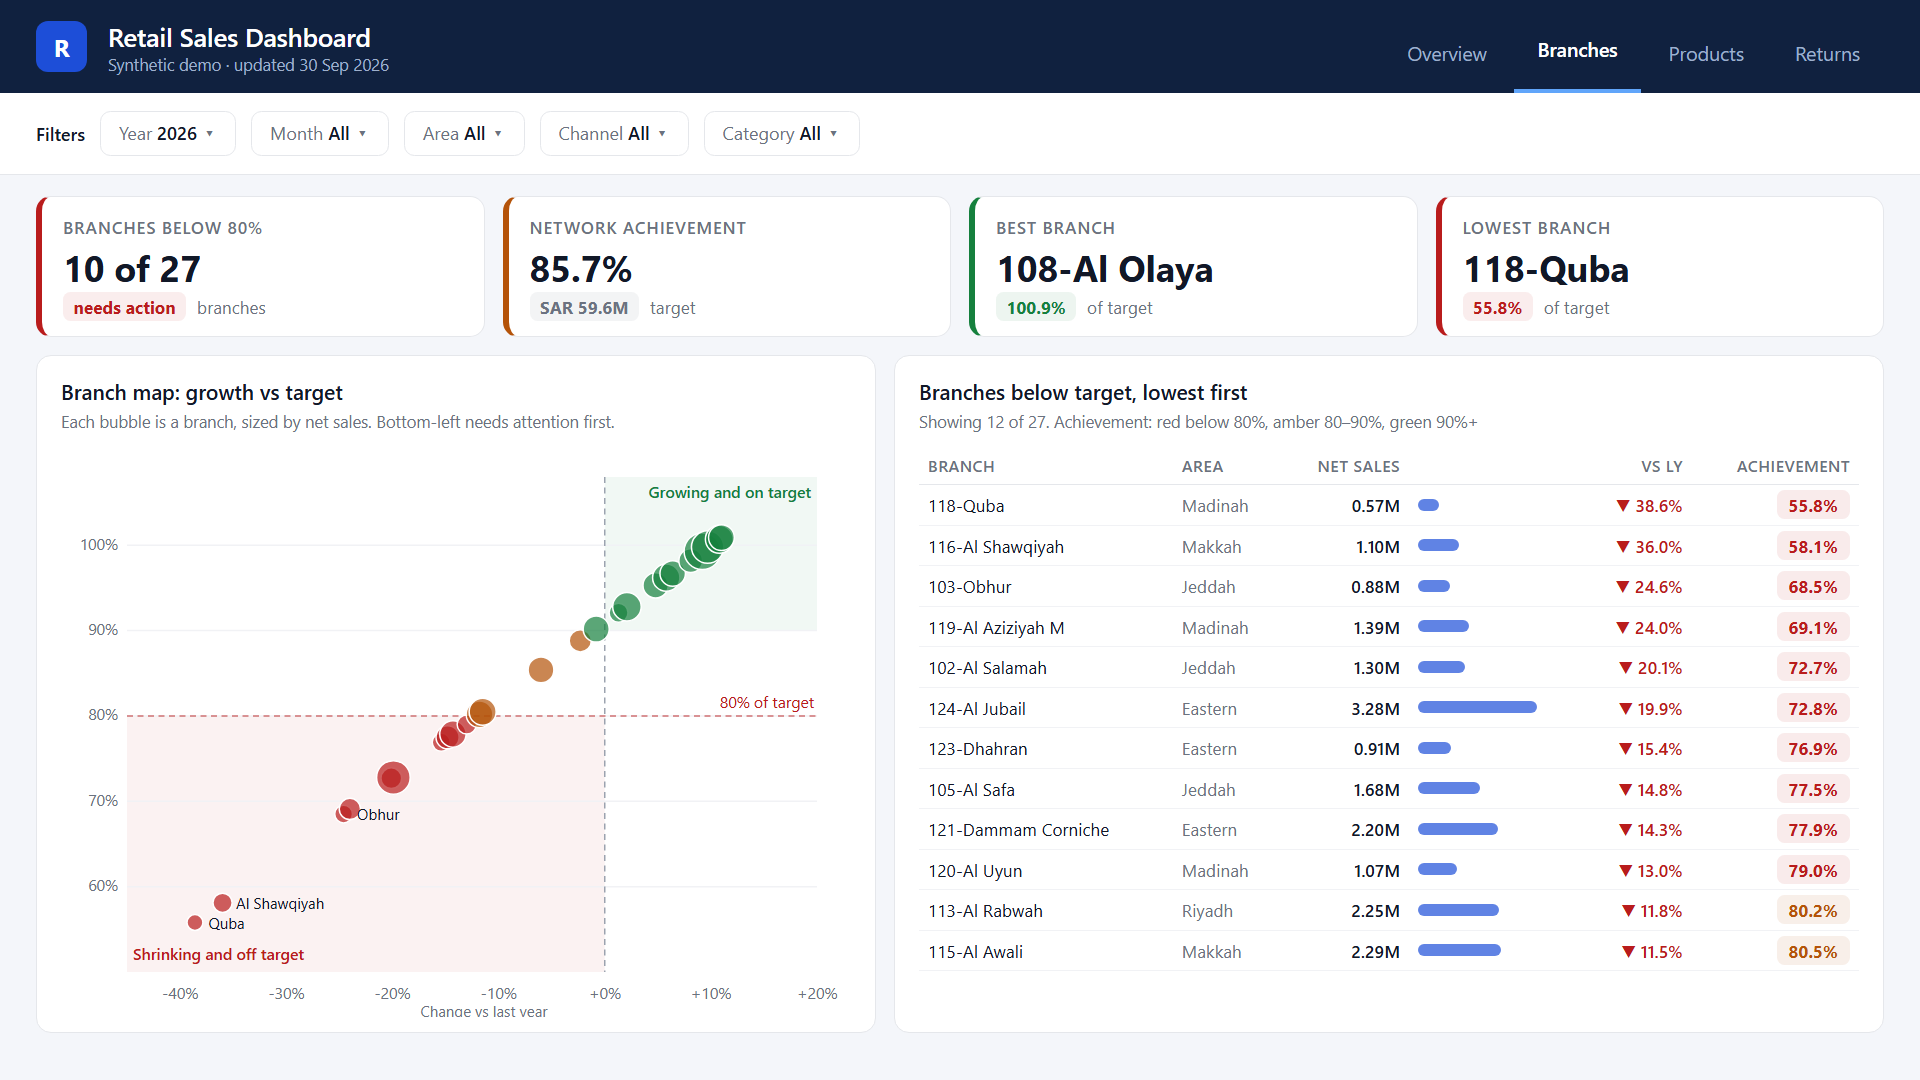

This screenshot's page, from the dashboard's own definition file:
{"tool":"powerbi","page":{"name":"Branches","canvas":[1280,720],"ordinal":1},"visuals":[{"type":"shape","box":[0,0,1280,62],"z":0},{"type":"shape","box":[24,14,34,34],"z":1},{"type":"textbox","box":[24,13,34,36],"z":2},{"type":"textbox","box":[68,8,420,50],"z":3},{"type":"pageNavigator","box":[956,12,300,40],"z":4},{"type":"shape","box":[0,62,1280,58],"z":5},{"type":"shape","box":[0,119,1280,1],"z":6},{"type":"textbox","box":[18,76,70,30],"z":7},{"type":"slicer","fields":{"Values":["Date.Year"]},"box":[92,68,150,48],"z":10},{"type":"slicer","fields":{"Values":["Date.Month"]},"box":[254,68,150,48],"z":11},{"type":"slicer","fields":{"Values":["Branch.area"]},"box":[416,68,150,48],"z":12},{"type":"slicer","fields":{"Values":["Branch.channel"]},"box":[578,68,150,48],"z":13},{"type":"slicer","fields":{"Values":["Product.category"]},"box":[740,68,150,48],"z":14},{"type":"shape","box":[24,130,299,120],"z":100},{"type":"cardVisual","fields":{"Data":["_Measures.Below 80 Label"]},"box":[32,132,287,116],"z":101},{"type":"shape","box":[24,138,4,104],"z":102},{"type":"shape","box":[335,130,299,120],"z":103},{"type":"cardVisual","fields":{"Data":["_Measures.Target Achievement %"]},"box":[343,132,287,116],"z":104},{"type":"shape","box":[335,138,4,104],"z":105},{"type":"shape","box":[646,130,299,120],"z":106},{"type":"cardVisual","fields":{"Data":["_Measures.Best Branch"]},"box":[654,132,287,116],"z":107},{"type":"shape","box":[646,138,4,104],"z":108},{"type":"shape","box":[957,130,299,120],"z":109},{"type":"cardVisual","fields":{"Data":["_Measures.Lowest Branch"]},"box":[965,132,287,116],"z":110},{"type":"shape","box":[957,138,4,104],"z":111},{"type":"scatterChart","title":"Branch map: growth vs target","fields":{"Category":["Branch.branch_name"],"Size":["_Measures.Net Sales"],"X":["_Measures.LFL vs LY %"],"Y":["_Measures.Target Achievement %"]},"box":[24,262,560,442],"z":300},{"type":"tableEx","title":"Branches, lowest achievement first","fields":{"Values":["Branch.branch_name","Branch.area","_Measures.Net Sales","_Measures.vs LY Label","_Measures.Target Achievement %"]},"box":[596,262,660,442],"z":301}]}

Visuals, with their boxes in screenshot pixels (x1, y1, x2, y2), scaled from the page's 1280x720 canvas onto the 1920x1080 screenshot:
shape: x1=0, y1=0, x2=1919, y2=93
shape: x1=36, y1=21, x2=87, y2=72
textbox: x1=36, y1=20, x2=87, y2=74
textbox: x1=102, y1=12, x2=732, y2=87
pageNavigator: x1=1434, y1=18, x2=1884, y2=78
shape: x1=0, y1=93, x2=1919, y2=180
shape: x1=0, y1=178, x2=1919, y2=180
textbox: x1=27, y1=114, x2=132, y2=159
slicer - Date.Year: x1=138, y1=102, x2=363, y2=174
slicer - Date.Month: x1=381, y1=102, x2=606, y2=174
slicer - Branch.area: x1=624, y1=102, x2=849, y2=174
slicer - Branch.channel: x1=867, y1=102, x2=1092, y2=174
slicer - Product.category: x1=1110, y1=102, x2=1335, y2=174
shape: x1=36, y1=195, x2=484, y2=375
cardVisual - _Measures.Below 80 Label: x1=48, y1=198, x2=478, y2=372
shape: x1=36, y1=207, x2=42, y2=363
shape: x1=502, y1=195, x2=951, y2=375
cardVisual - _Measures.Target Achievement %: x1=514, y1=198, x2=945, y2=372
shape: x1=502, y1=207, x2=508, y2=363
shape: x1=969, y1=195, x2=1418, y2=375
cardVisual - _Measures.Best Branch: x1=981, y1=198, x2=1412, y2=372
shape: x1=969, y1=207, x2=975, y2=363
shape: x1=1436, y1=195, x2=1884, y2=375
cardVisual - _Measures.Lowest Branch: x1=1448, y1=198, x2=1878, y2=372
shape: x1=1436, y1=207, x2=1442, y2=363
"Branch map: growth vs target" scatterChart: x1=36, y1=393, x2=876, y2=1056
"Branches, lowest achievement first" tableEx: x1=894, y1=393, x2=1884, y2=1056
